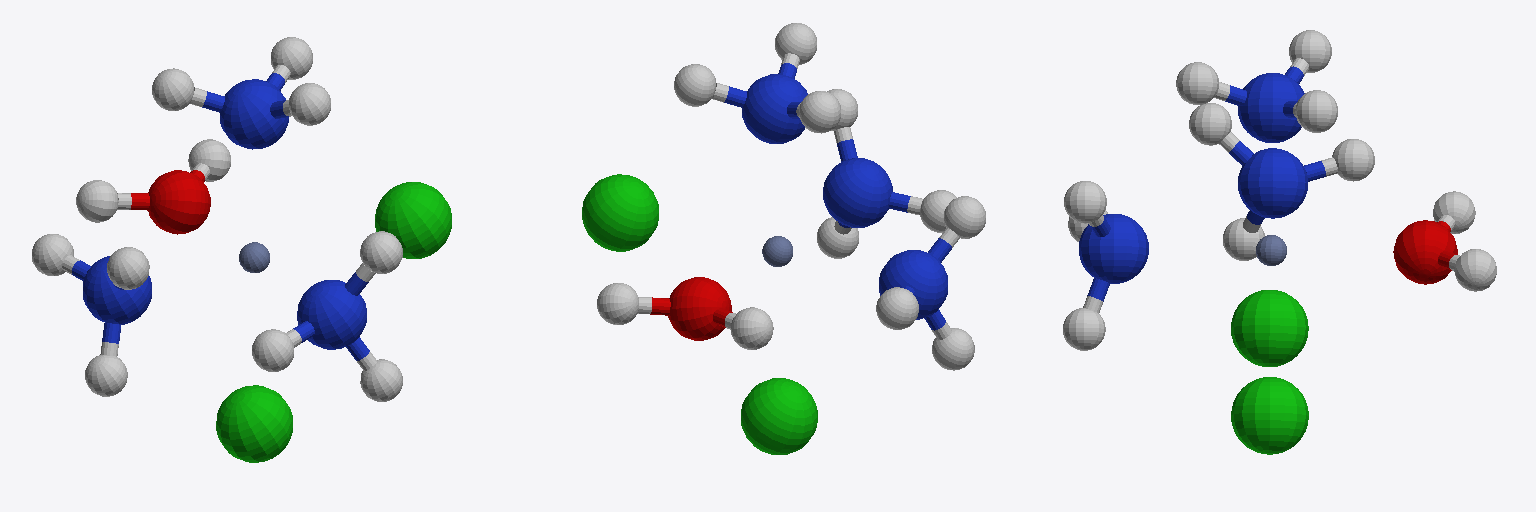
The model's file is fac-acuotriammindiclorohierro.obj.
The picture shows the model from 3 angles: view 1: azimuth 30°, elevation 25°; view 2: azimuth 150°, elevation 25°; view 3: azimuth 270°, elevation 25°; orthographic projection.
Visible parts, largest first — view 1: ShapeSphere.010_ShapeSphere.011, ShapeSphere.011_ShapeSphere.012, ShapeSphere.001_ShapeSphere.002, ShapeSphere.004_ShapeSphere.005, ShapeSphere.015_ShapeSphere.016, ShapeSphere.007_ShapeSphere.008, ShapeSphere.014_ShapeSphere.015, ShapeSphere.003_ShapeSphere.004, ShapeSphere.013_ShapeSphere.014, ShapeSphere.012_ShapeSphere.013, ShapeSphere.016_ShapeSphere.017, ShapeSphere.009_ShapeSphere.010 (+6 smaller); view 2: ShapeSphere.011_ShapeSphere.012, ShapeSphere.010_ShapeSphere.011, ShapeSphere.001_ShapeSphere.002, ShapeSphere.004_ShapeSphere.005, ShapeSphere.015_ShapeSphere.016, ShapeSphere.007_ShapeSphere.008, ShapeSphere.008_ShapeSphere.009, ShapeSphere.016_ShapeSphere.017, ShapeSphere.005_ShapeSphere.006, ShapeSphere.006_ShapeSphere.007, ShapeSphere.017_ShapeSphere, ShapeSphere.014_ShapeSphere.015 (+6 smaller); view 3: ShapeSphere.010_ShapeSphere.011, ShapeSphere.011_ShapeSphere.012, ShapeSphere.007_ShapeSphere.008, ShapeSphere.001_ShapeSphere.002, ShapeSphere.004_ShapeSphere.005, ShapeSphere.015_ShapeSphere.016, ShapeSphere.012_ShapeSphere.013, ShapeSphere.005_ShapeSphere.006, ShapeSphere.003_ShapeSphere.004, ShapeSphere.002_ShapeSphere.003, ShapeSphere.017_ShapeSphere, ShapeSphere.014_ShapeSphere.015 (+5 smaller).
Part boxes in pixels (bbox=[...]): ShapeSphere.010_ShapeSphere.011: bbox=[216, 385, 292, 462]; ShapeSphere.011_ShapeSphere.012: bbox=[375, 182, 451, 258]; ShapeSphere.001_ShapeSphere.002: bbox=[297, 280, 366, 349]; ShapeSphere.004_ShapeSphere.005: bbox=[220, 79, 288, 149]; ShapeSphere.015_ShapeSphere.016: bbox=[148, 170, 210, 234]; ShapeSphere.007_ShapeSphere.008: bbox=[83, 256, 151, 324]; ShapeSphere.014_ShapeSphere.015: bbox=[107, 247, 149, 289]; ShapeSphere.003_ShapeSphere.004: bbox=[360, 231, 402, 273]; ShapeSphere.013_ShapeSphere.014: bbox=[252, 329, 293, 371]; ShapeSphere.012_ShapeSphere.013: bbox=[289, 83, 330, 125]; ShapeSphere.016_ShapeSphere.017: bbox=[76, 180, 118, 222]; ShapeSphere.009_ShapeSphere.010: bbox=[85, 355, 127, 396]; ShapeSphere.011_ShapeSphere.012: bbox=[582, 174, 658, 251]; ShapeSphere.010_ShapeSphere.011: bbox=[741, 378, 817, 454]; ShapeSphere.001_ShapeSphere.002: bbox=[823, 158, 892, 227]; ShapeSphere.004_ShapeSphere.005: bbox=[742, 74, 807, 143]; ShapeSphere.015_ShapeSphere.016: bbox=[668, 277, 731, 340]; ShapeSphere.007_ShapeSphere.008: bbox=[879, 250, 947, 319]; ShapeSphere.008_ShapeSphere.009: bbox=[876, 287, 918, 329]; ShapeSphere.016_ShapeSphere.017: bbox=[731, 307, 773, 349]; ShapeSphere.005_ShapeSphere.006: bbox=[674, 64, 715, 106]; ShapeSphere.006_ShapeSphere.007: bbox=[799, 91, 840, 133]; ShapeSphere.017_ShapeSphere: bbox=[597, 283, 638, 324]; ShapeSphere.014_ShapeSphere.015: bbox=[944, 196, 985, 238]; ShapeSphere.010_ShapeSphere.011: bbox=[1231, 377, 1308, 454]; ShapeSphere.011_ShapeSphere.012: bbox=[1231, 290, 1308, 366]; ShapeSphere.007_ShapeSphere.008: bbox=[1238, 148, 1307, 218]; ShapeSphere.001_ShapeSphere.002: bbox=[1079, 214, 1148, 283]; ShapeSphere.004_ShapeSphere.005: bbox=[1238, 73, 1304, 142]; ShapeSphere.015_ShapeSphere.016: bbox=[1393, 220, 1457, 284]; ShapeSphere.012_ShapeSphere.013: bbox=[1176, 62, 1218, 104]; ShapeSphere.005_ShapeSphere.006: bbox=[1295, 90, 1337, 132]; ShapeSphere.003_ShapeSphere.004: bbox=[1064, 181, 1106, 223]; ShapeSphere.002_ShapeSphere.003: bbox=[1063, 308, 1105, 350]; ShapeSphere.017_ShapeSphere: bbox=[1454, 249, 1496, 291]; ShapeSphere.014_ShapeSphere.015: bbox=[1189, 103, 1231, 145].
Size of the model in its own units: 4.99 by 5.08 by 5.05.